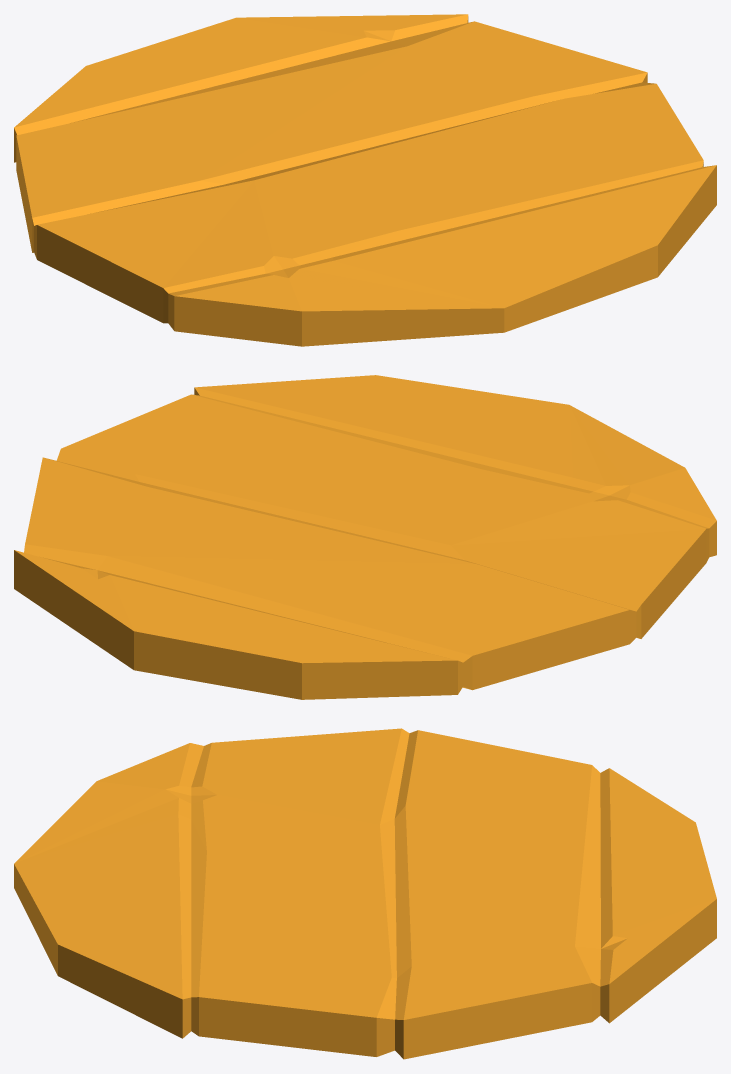
Rendered from SM_Barrel_Wood_A_Lid_Fantasy.fbx.
3 renders of one model, top to bottom at view 1: azimuth 30°, elevation 25°; view 2: azimuth 150°, elevation 25°; view 3: azimuth 270°, elevation 25°, orthographic. The views are drawn at different scales.
Parts seen in each view (by area): view 1: barrel-wood-a-lid-fantasy; view 2: barrel-wood-a-lid-fantasy; view 3: barrel-wood-a-lid-fantasy.
Part boxes in pixels (box(x1,y1,x2,y2)): barrel-wood-a-lid-fantasy: box(14, 14, 716, 346); barrel-wood-a-lid-fantasy: box(14, 375, 716, 699); barrel-wood-a-lid-fantasy: box(14, 728, 716, 1059).
Bounding box in the file's own units: 0.6406 × 0.04 × 0.6473.
